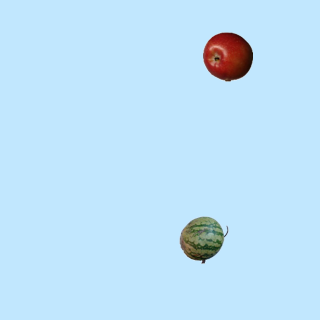Apple Braeburn: (202, 31, 252, 81)
Watermelon: (178, 214, 228, 264)
